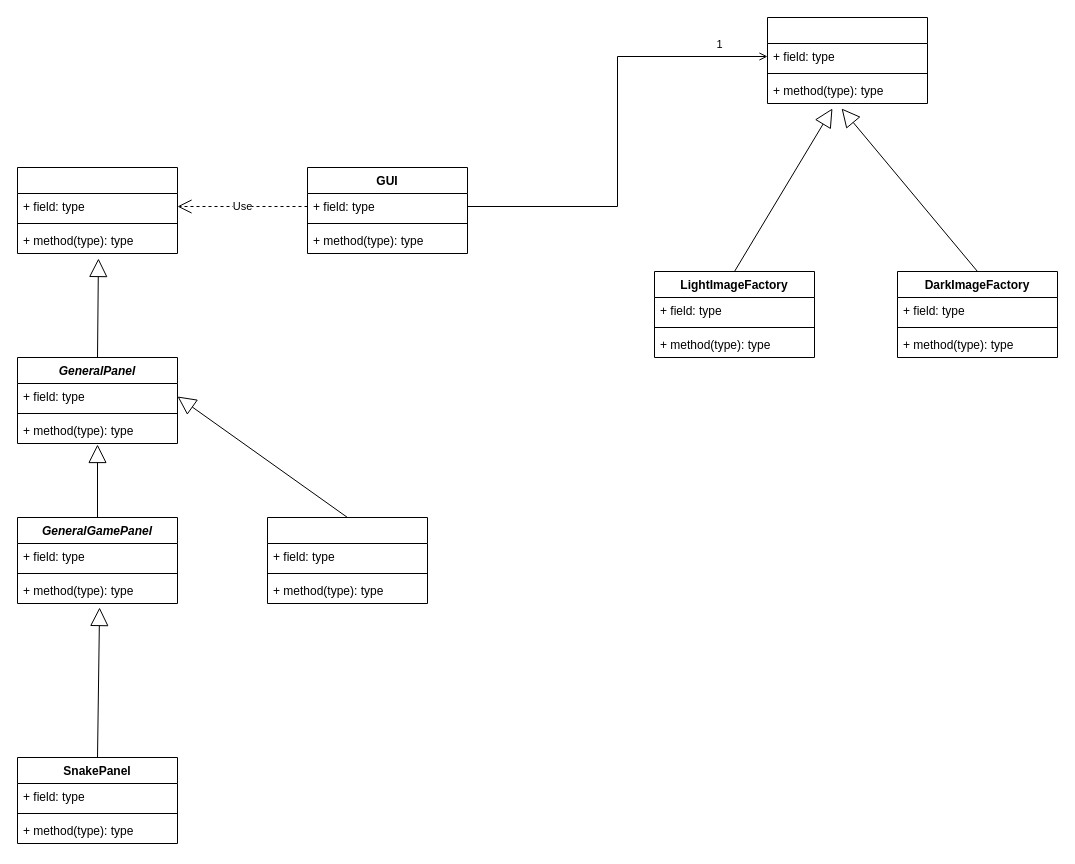
The diagram is 1075 pixels wide and 864 high, and some of its shapes have lost their labels. Here are the shapes that lost their labels. From the top down, the box of each, then its label:
(766, 16, 928, 104): ImageFactory
(16, 166, 178, 254): JPanel
(266, 516, 428, 604): InitialPanel
